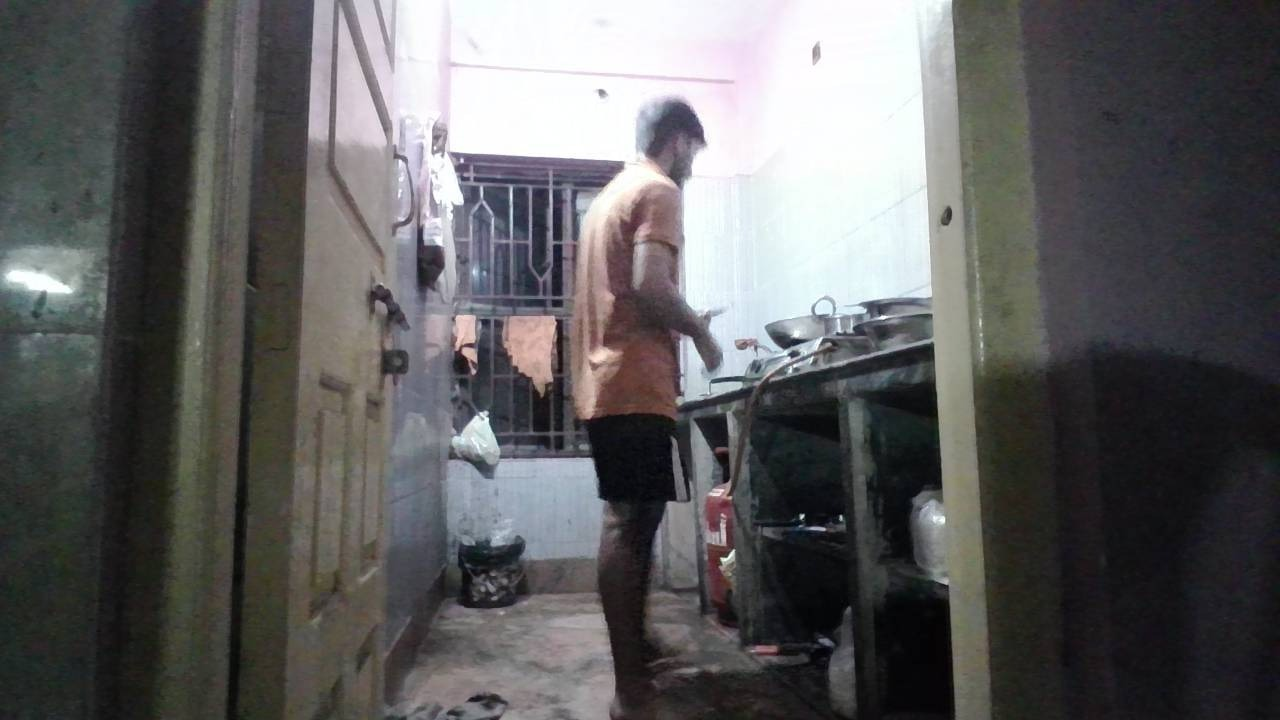red_box: (597, 344, 672, 416)
